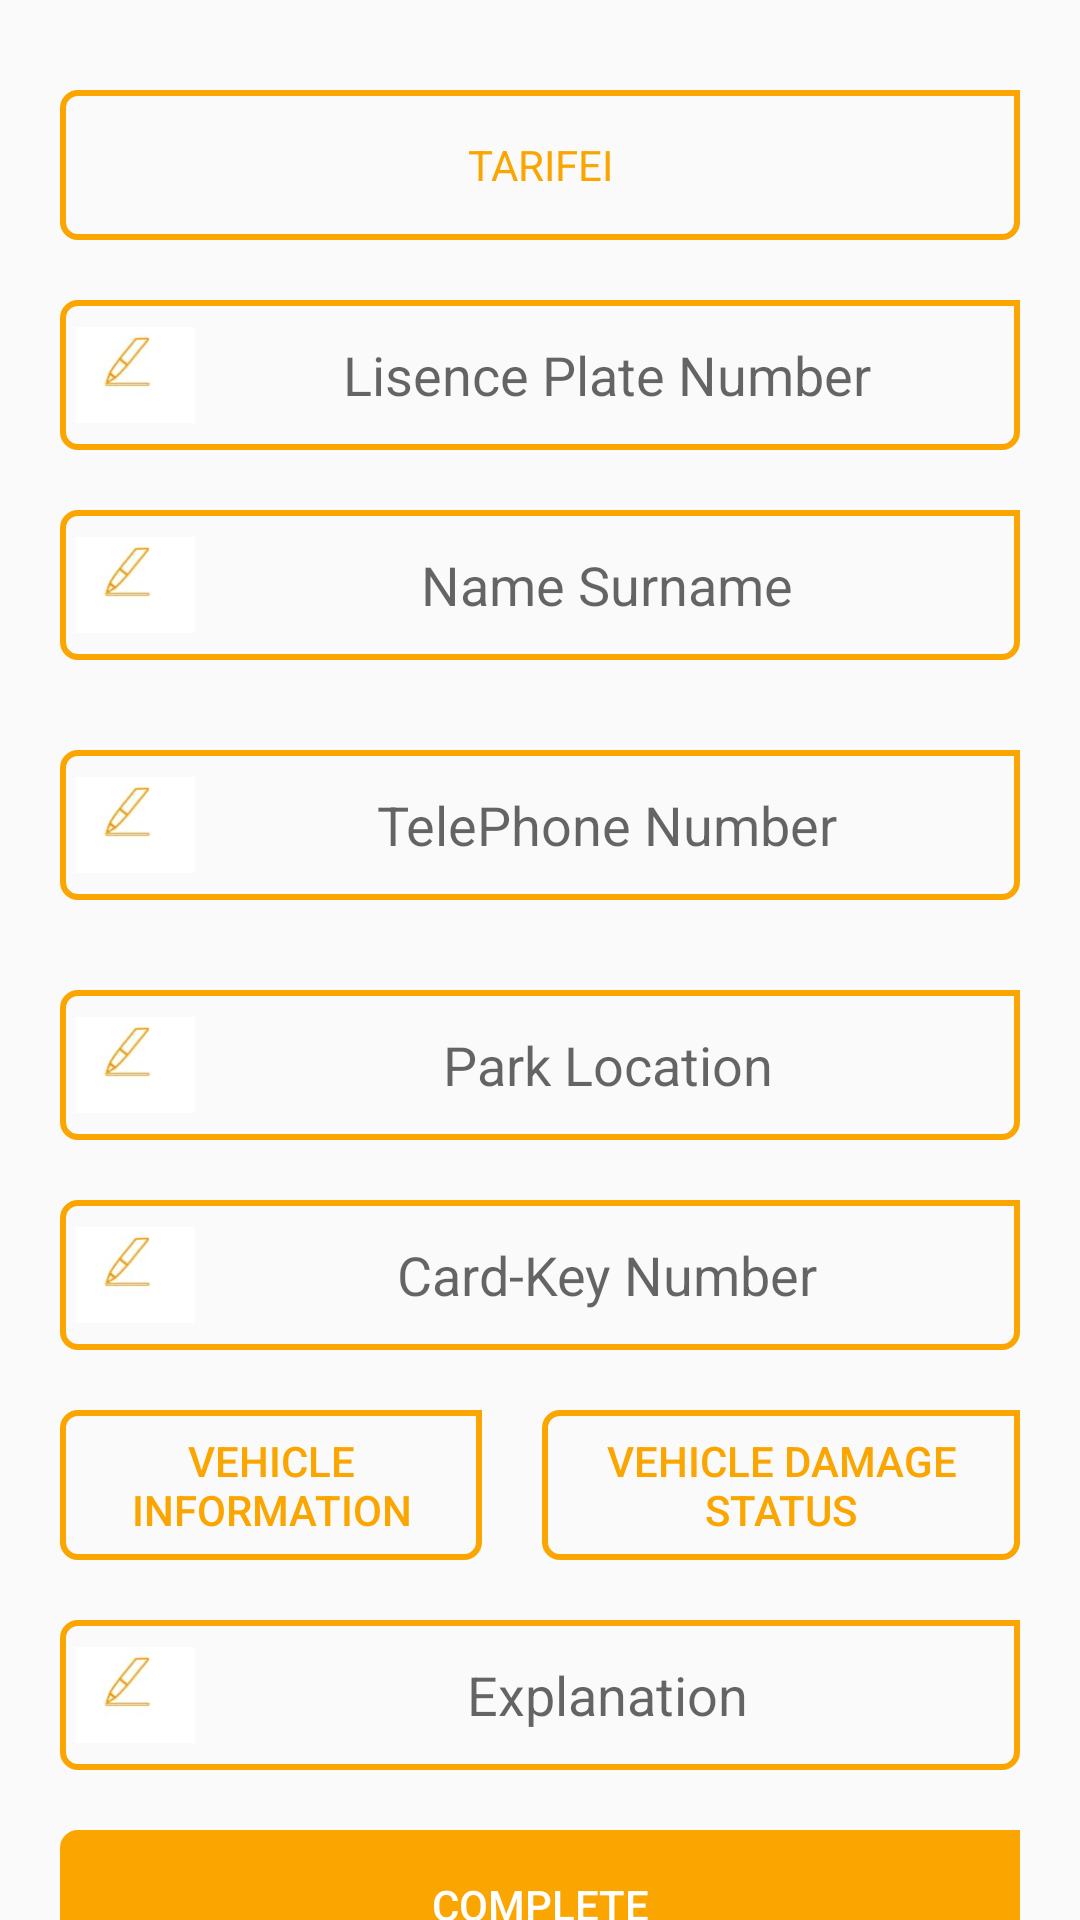

Where to tap for icons on this 1080×1920 app screen, as (x=x, y=y):
pencil: (x=135, y=375), (x=135, y=585), (x=135, y=825), (x=135, y=1065), (x=135, y=1275), (x=135, y=1695)
